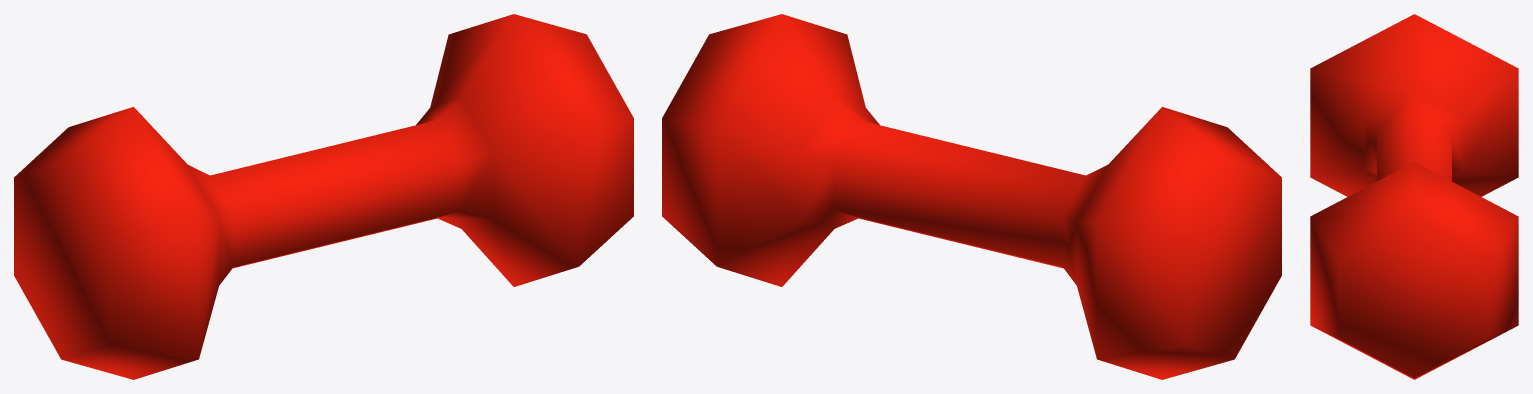
File: Weight_04.FBX
The picture shows the model from 3 angles, left to right: view 1: azimuth 30°, elevation 25°; view 2: azimuth 150°, elevation 25°; view 3: azimuth 270°, elevation 25°; orthographic projection. The views are drawn at different scales.
Visible parts, largest first — view 1: Weight; view 2: Weight; view 3: Weight.
Part boxes in pixels (x1,y1,x2,y2): Weight: (14, 14, 633, 379); Weight: (662, 14, 1281, 379); Weight: (1310, 14, 1518, 379).
Bounding box in the file's own units: 78.32 × 38.91 × 33.69.
